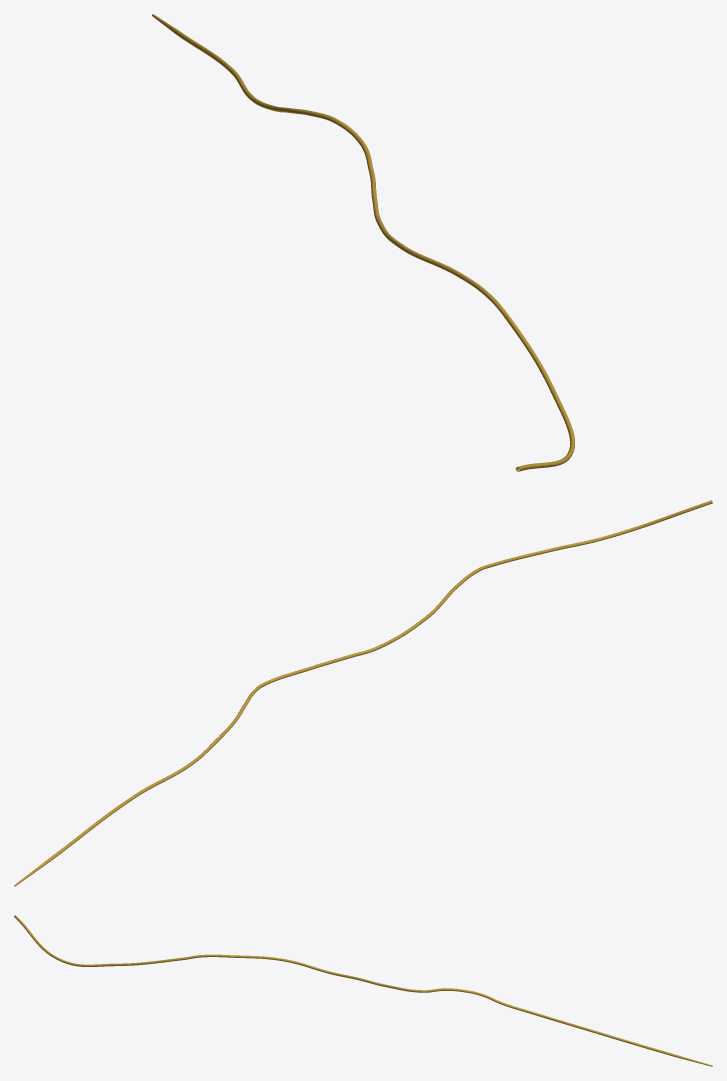
3 renders of one model, top to bottom at view 1: azimuth 30°, elevation 25°; view 2: azimuth 150°, elevation 25°; view 3: azimuth 270°, elevation 25°, orthographic. The views are drawn at different scales.
Parts seen in each view (by area): view 1: 左侧正中神经; view 2: 左侧正中神经; view 3: 左侧正中神经.
Part boxes in pixels (box(x1,y1,x2,y2)): 左侧正中神经: box(152, 14, 574, 471); 左侧正中神经: box(14, 500, 712, 886); 左侧正中神经: box(14, 915, 712, 1066).
Size of the model in its own units: 0.2262 by 0.091 by 0.8165.
